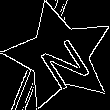N_NW: (28, 24, 91, 88)
